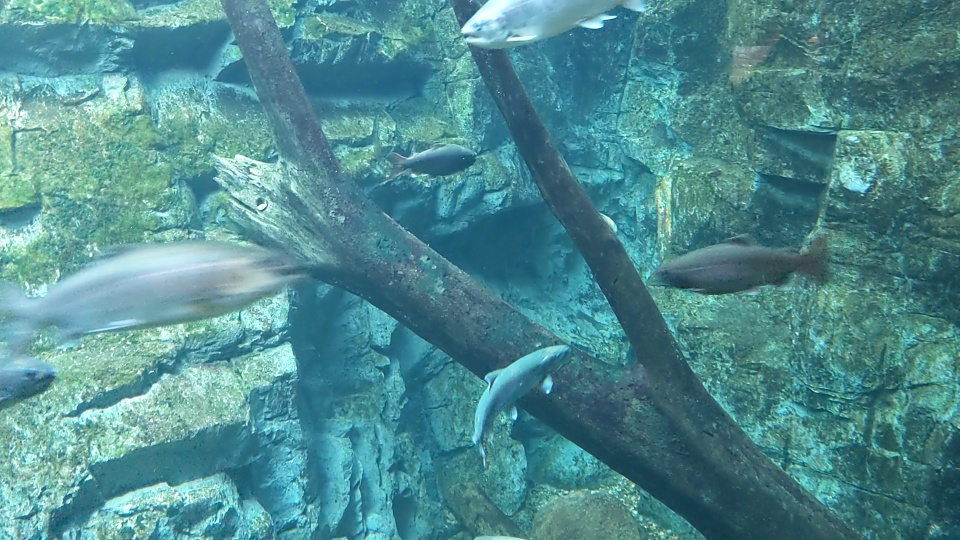Fish: (0, 239, 304, 344), (648, 227, 829, 297), (469, 341, 566, 462), (460, 0, 657, 50), (378, 139, 476, 183), (0, 360, 58, 413)
